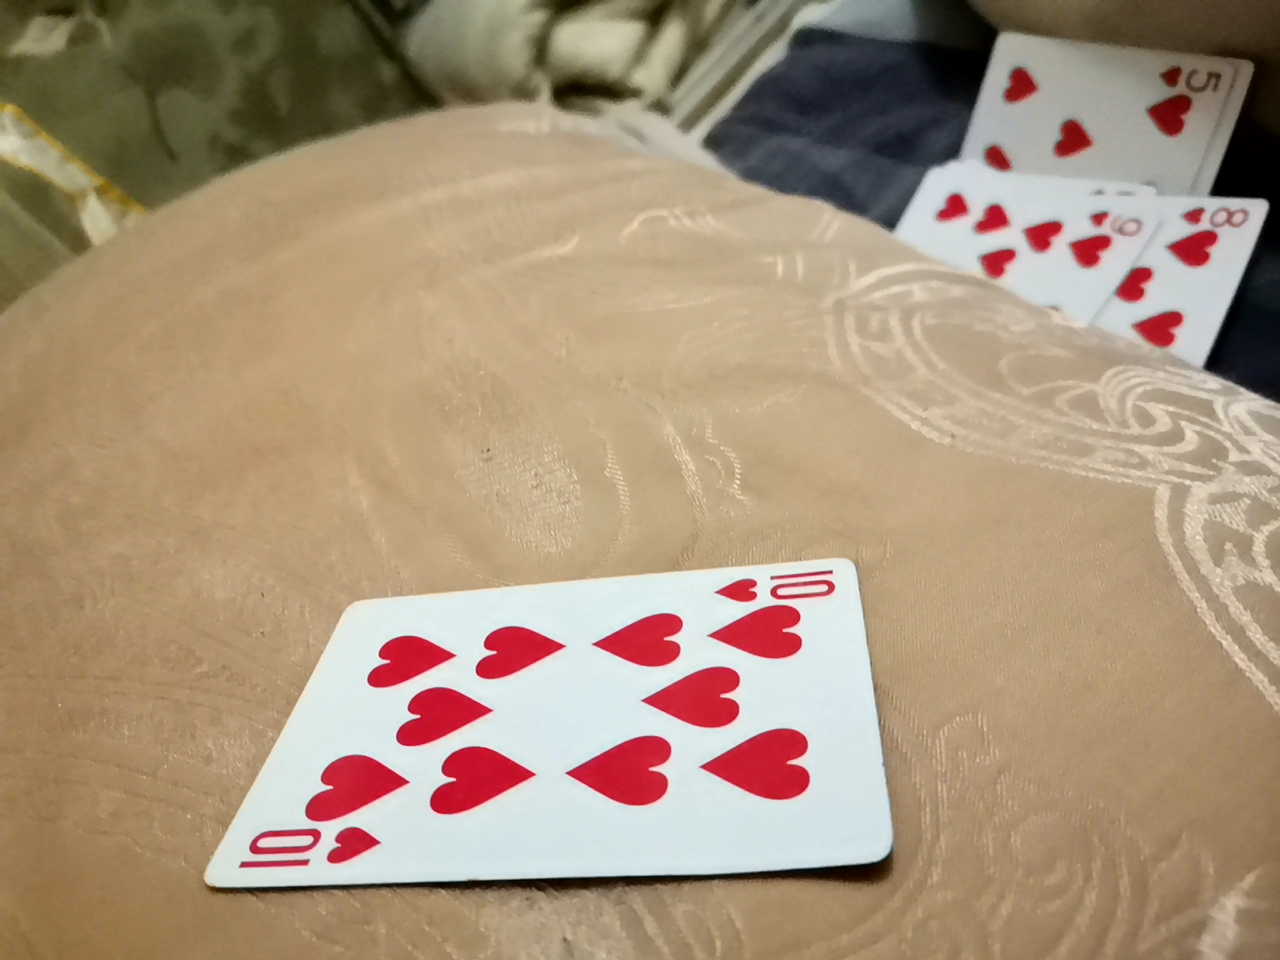hx 10: (212, 546, 897, 879)
